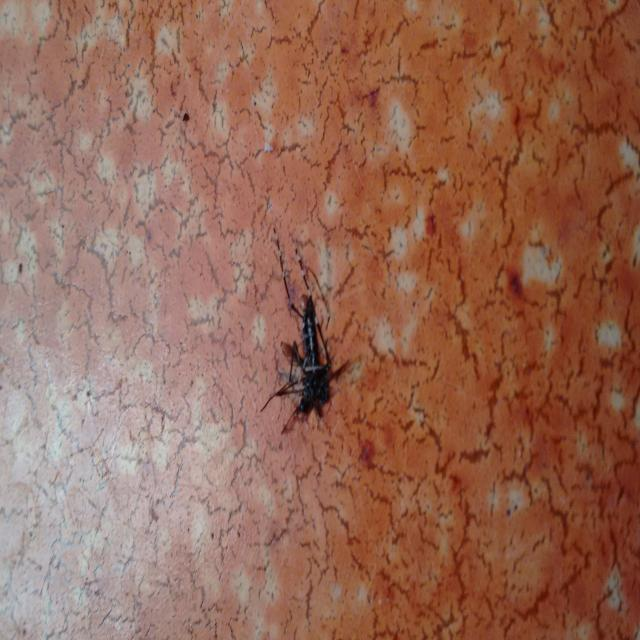albopictus: (258, 264, 341, 433)
